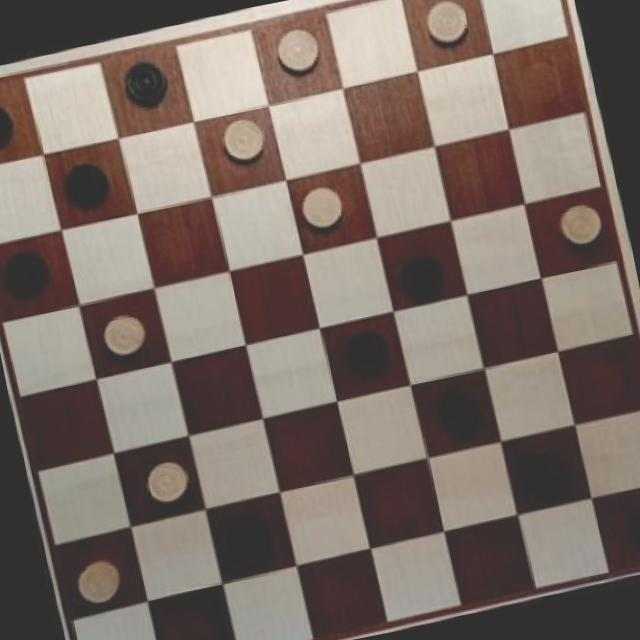BOARD: (0, 0, 640, 640)
black: (114, 51, 178, 116), (336, 322, 397, 387), (216, 506, 279, 568), (1, 246, 62, 304), (392, 240, 451, 298), (518, 440, 572, 500), (59, 154, 113, 212), (430, 386, 483, 442), (613, 498, 640, 552), (0, 89, 21, 156)
white: (66, 552, 128, 614), (552, 194, 609, 256), (270, 21, 328, 81), (216, 110, 274, 169), (95, 302, 151, 363), (137, 453, 195, 511), (296, 179, 349, 235), (416, 0, 473, 48)
